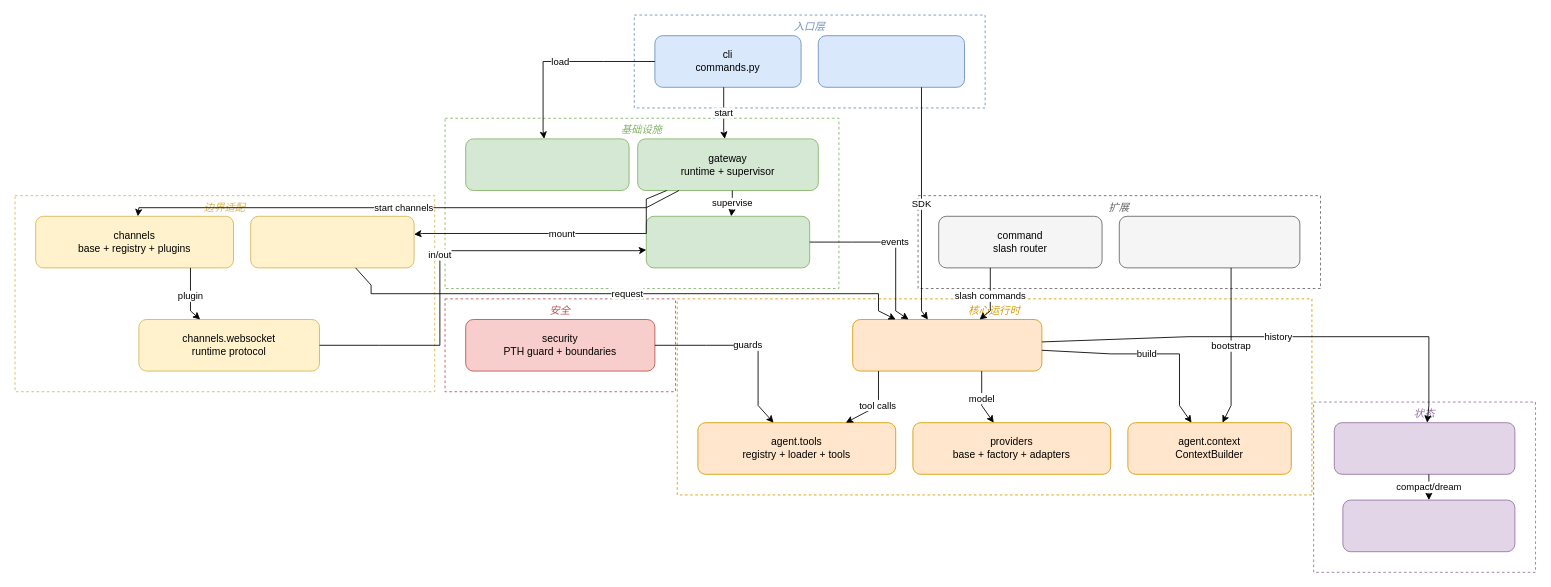
This 1551x587 diagram has some shape labels left out. Here are the shapes that lost their labels. From the top down, the centre of each, then its label:
(890,61): nanobot.py SDK facade
(547,164): config schema + loader
(332,241): api FastAPI server
(727,241): bus events + queue
(1209,241): skills + templates prompt assets
(947,345): agent loop + runner + context
(1424,448): session manager + goal state
(1428,525): agent.memory JSONL + Dream
